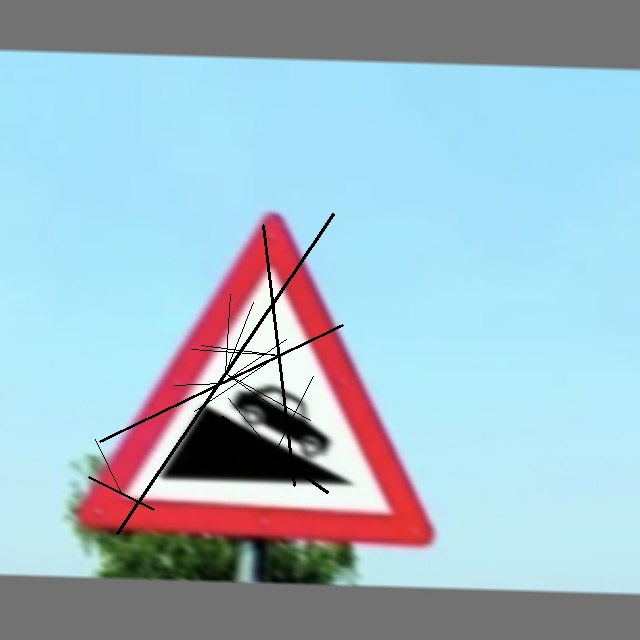Steep_Descent: (81, 211, 438, 542)
